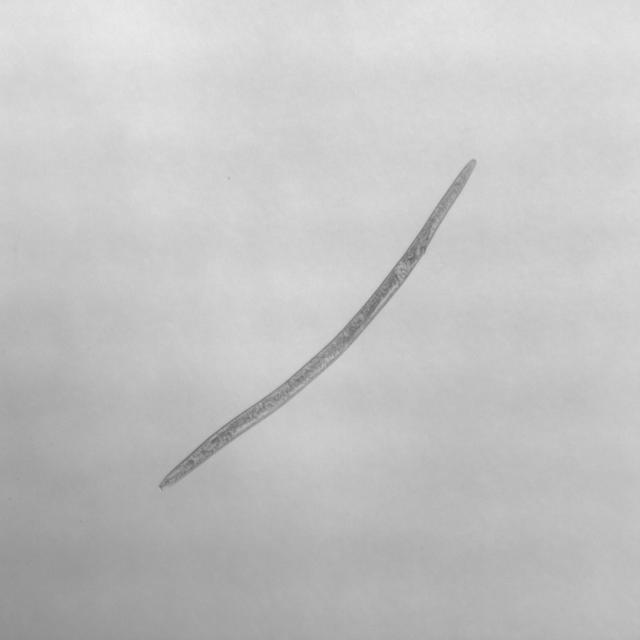Pratylenchus: (150, 150, 480, 492)
